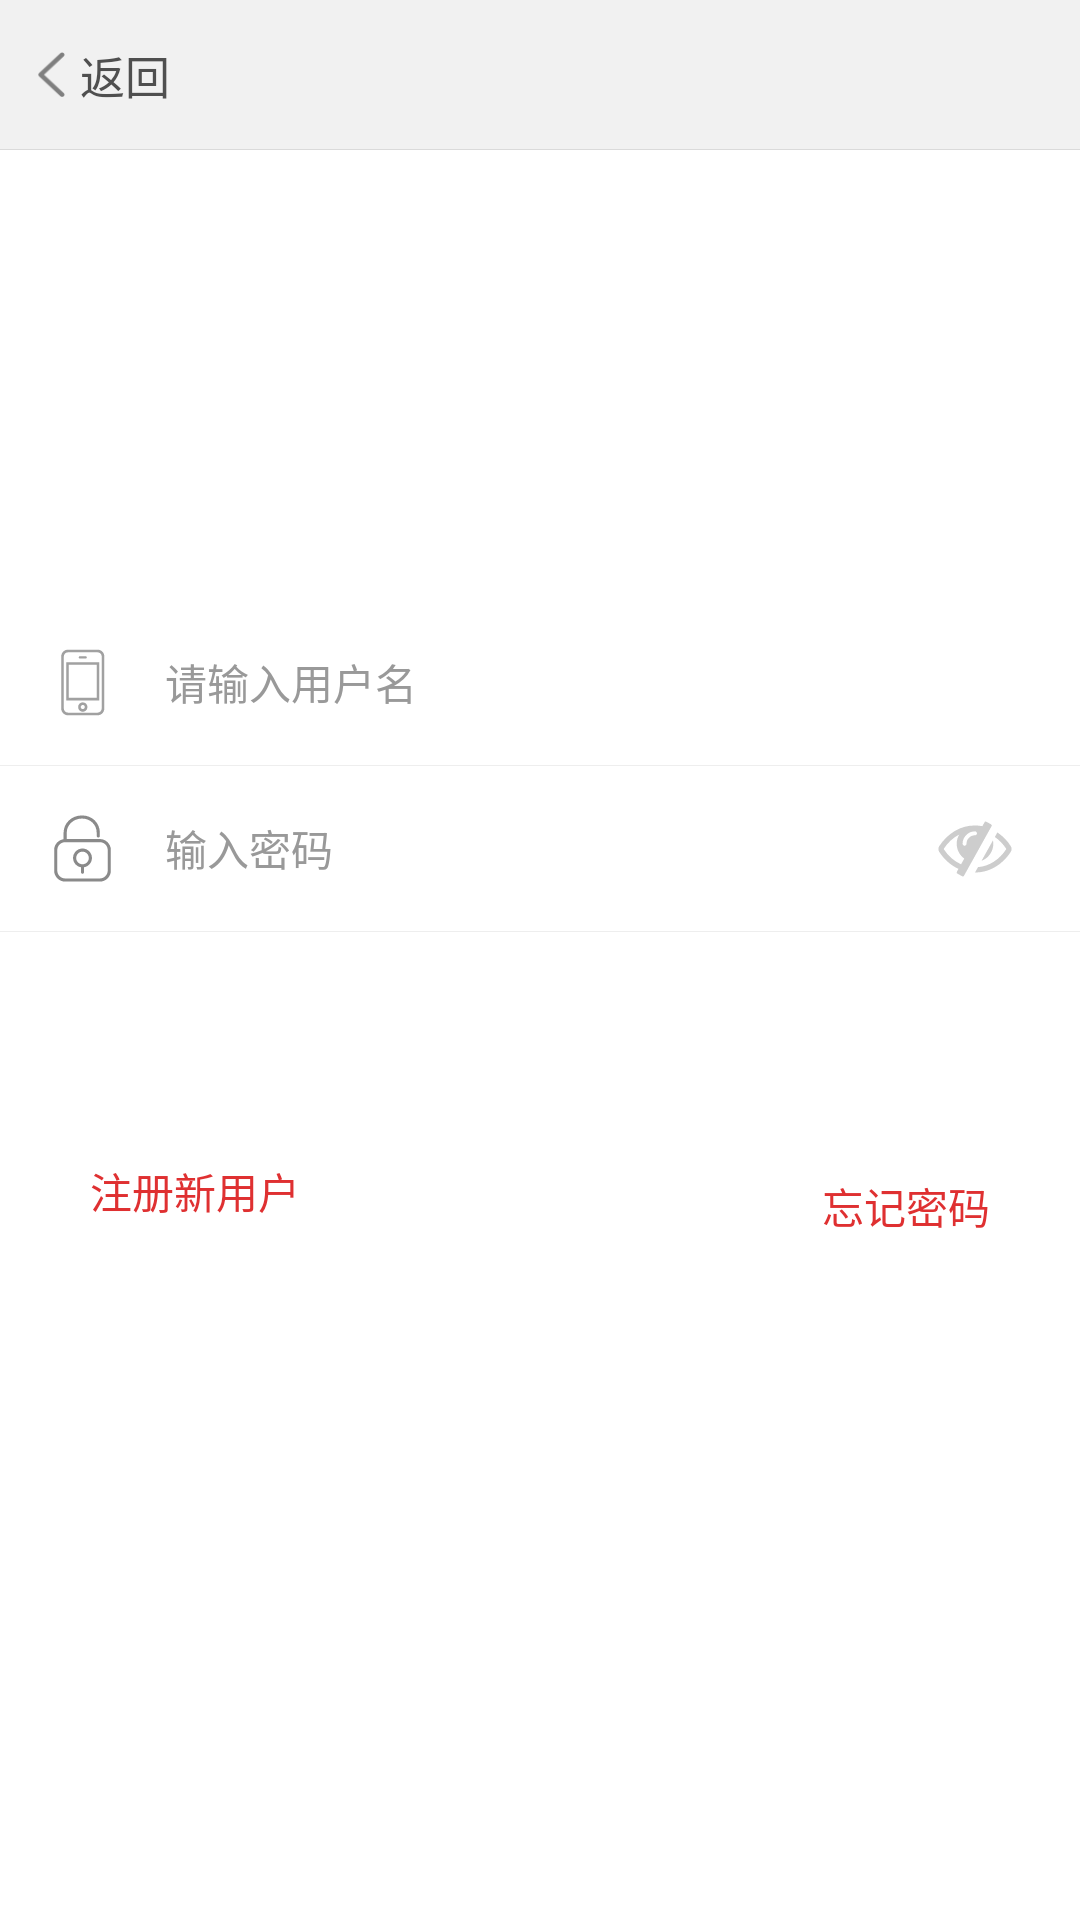

Screen size 1080x1920. Icon name, then its center in pixels as (x,y):
mobile flag: (82,682)
pass gone: (975,849)
password flag: (82,848)
